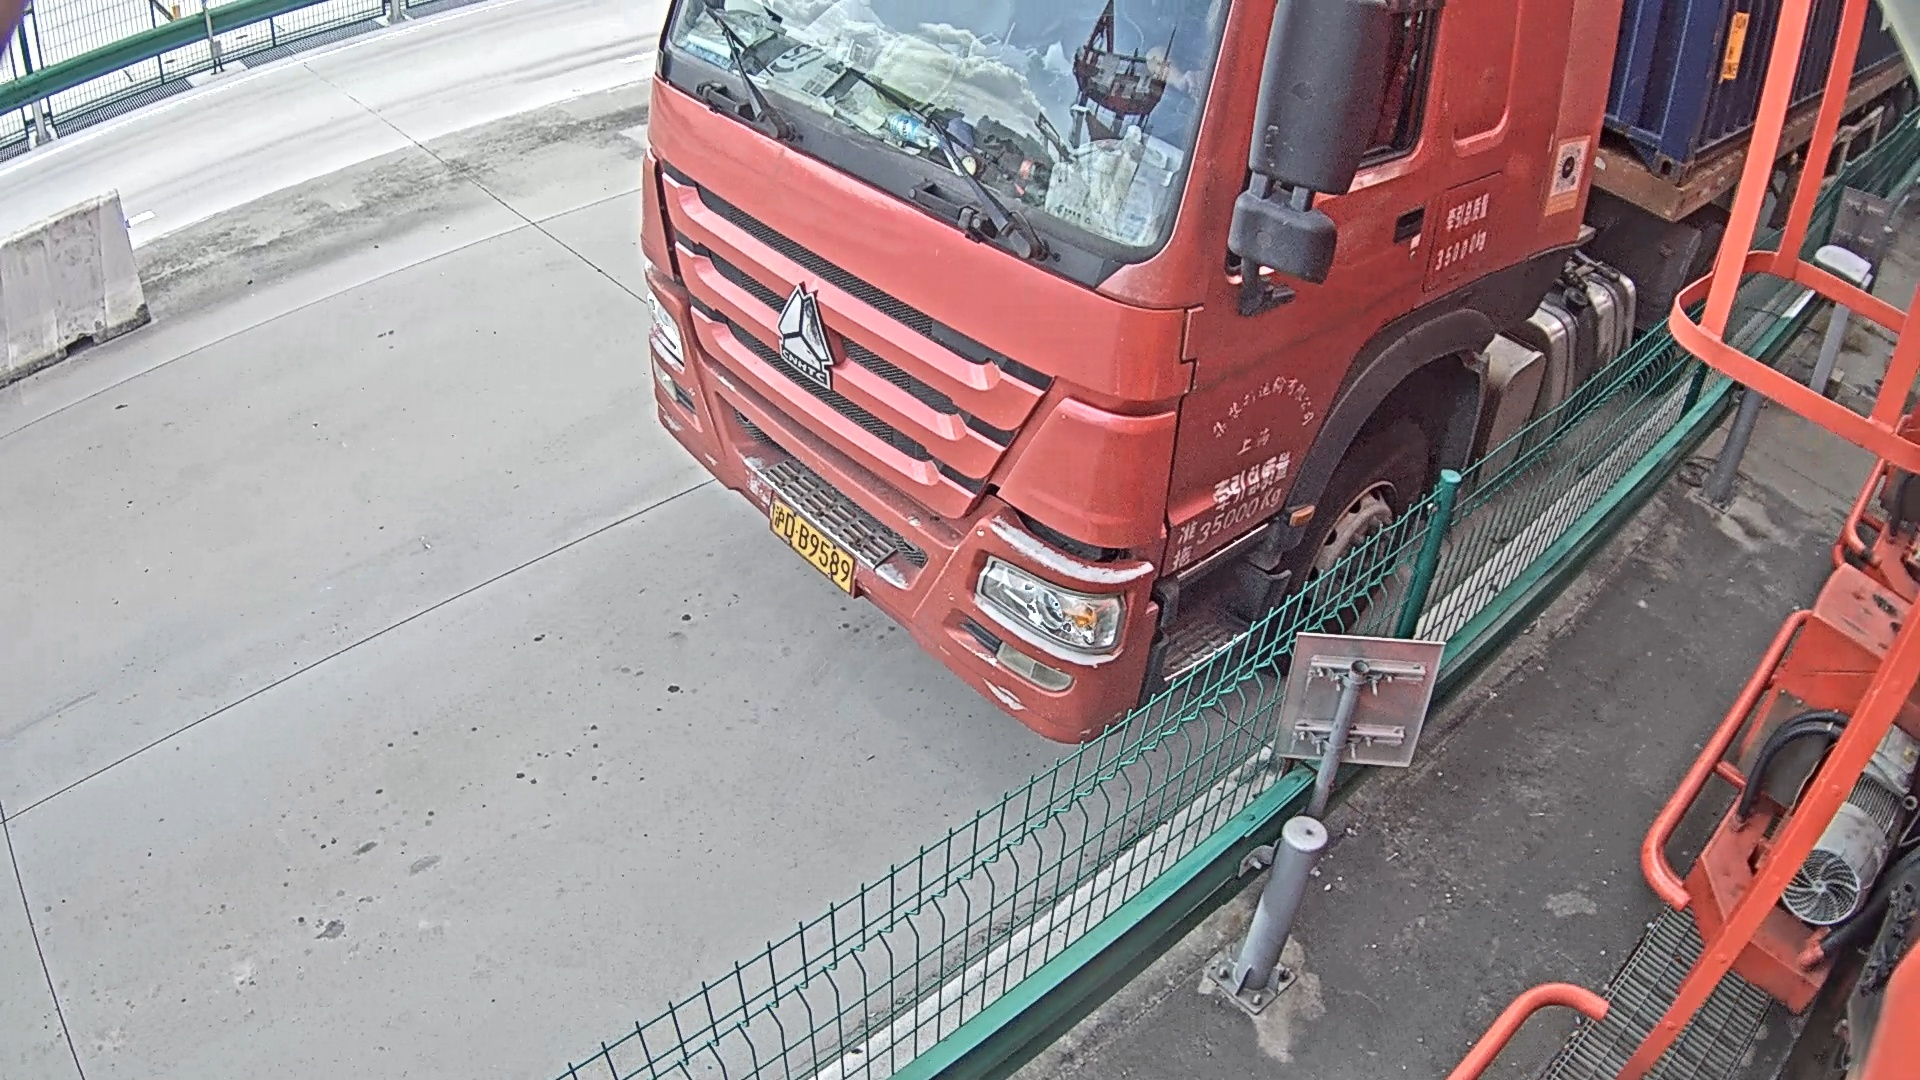head: (635, 1, 1623, 746)
plate: (771, 492, 850, 595)
